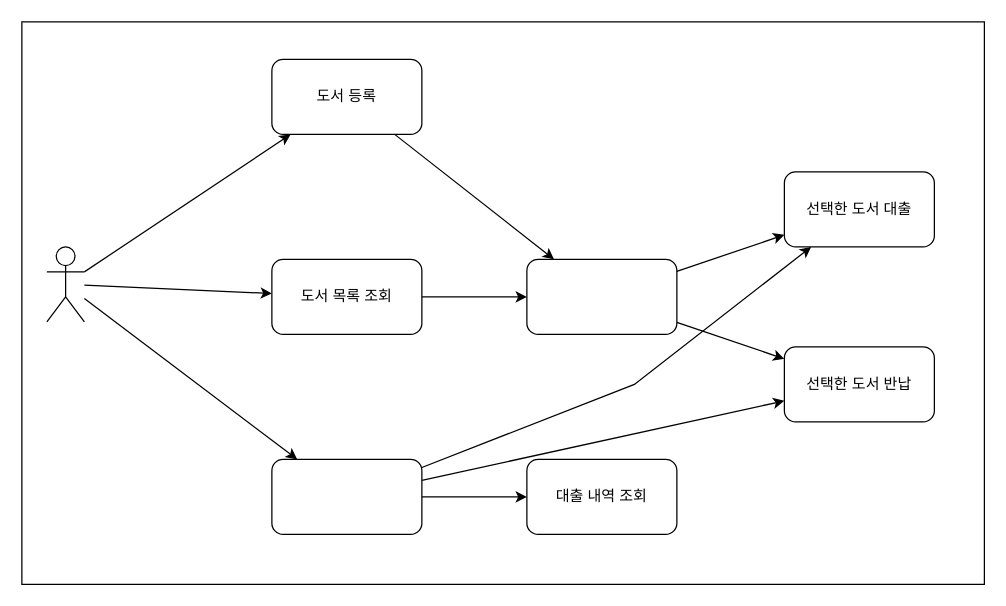
Image size: 1006x606. Some labels were removed from this diagram. The centre of each missing label's shape, as x and y in pixels:
Actor: point 65,284
도서관 회원 등록: point 346,496
선택한 도서 정보 조회: point 601,296
